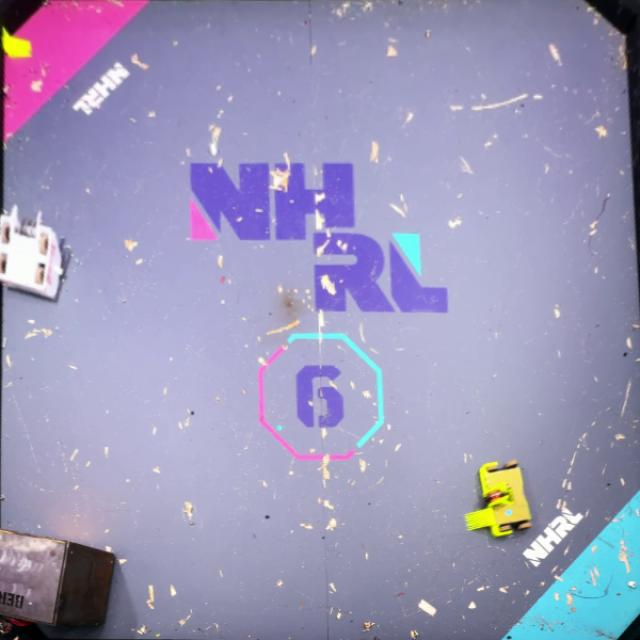housebot: (0, 527, 115, 631)
robot: (0, 204, 74, 301), (464, 460, 533, 537)
